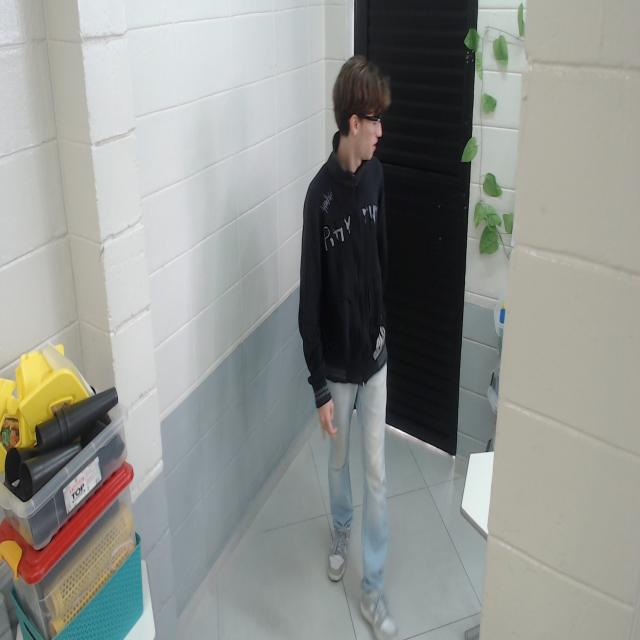oculos-epi: (359, 115, 381, 130)
